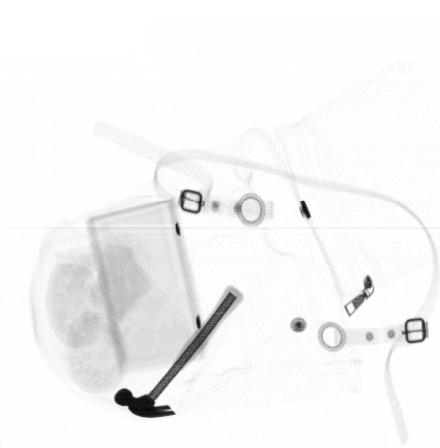Hammer: (113, 284, 244, 418)
